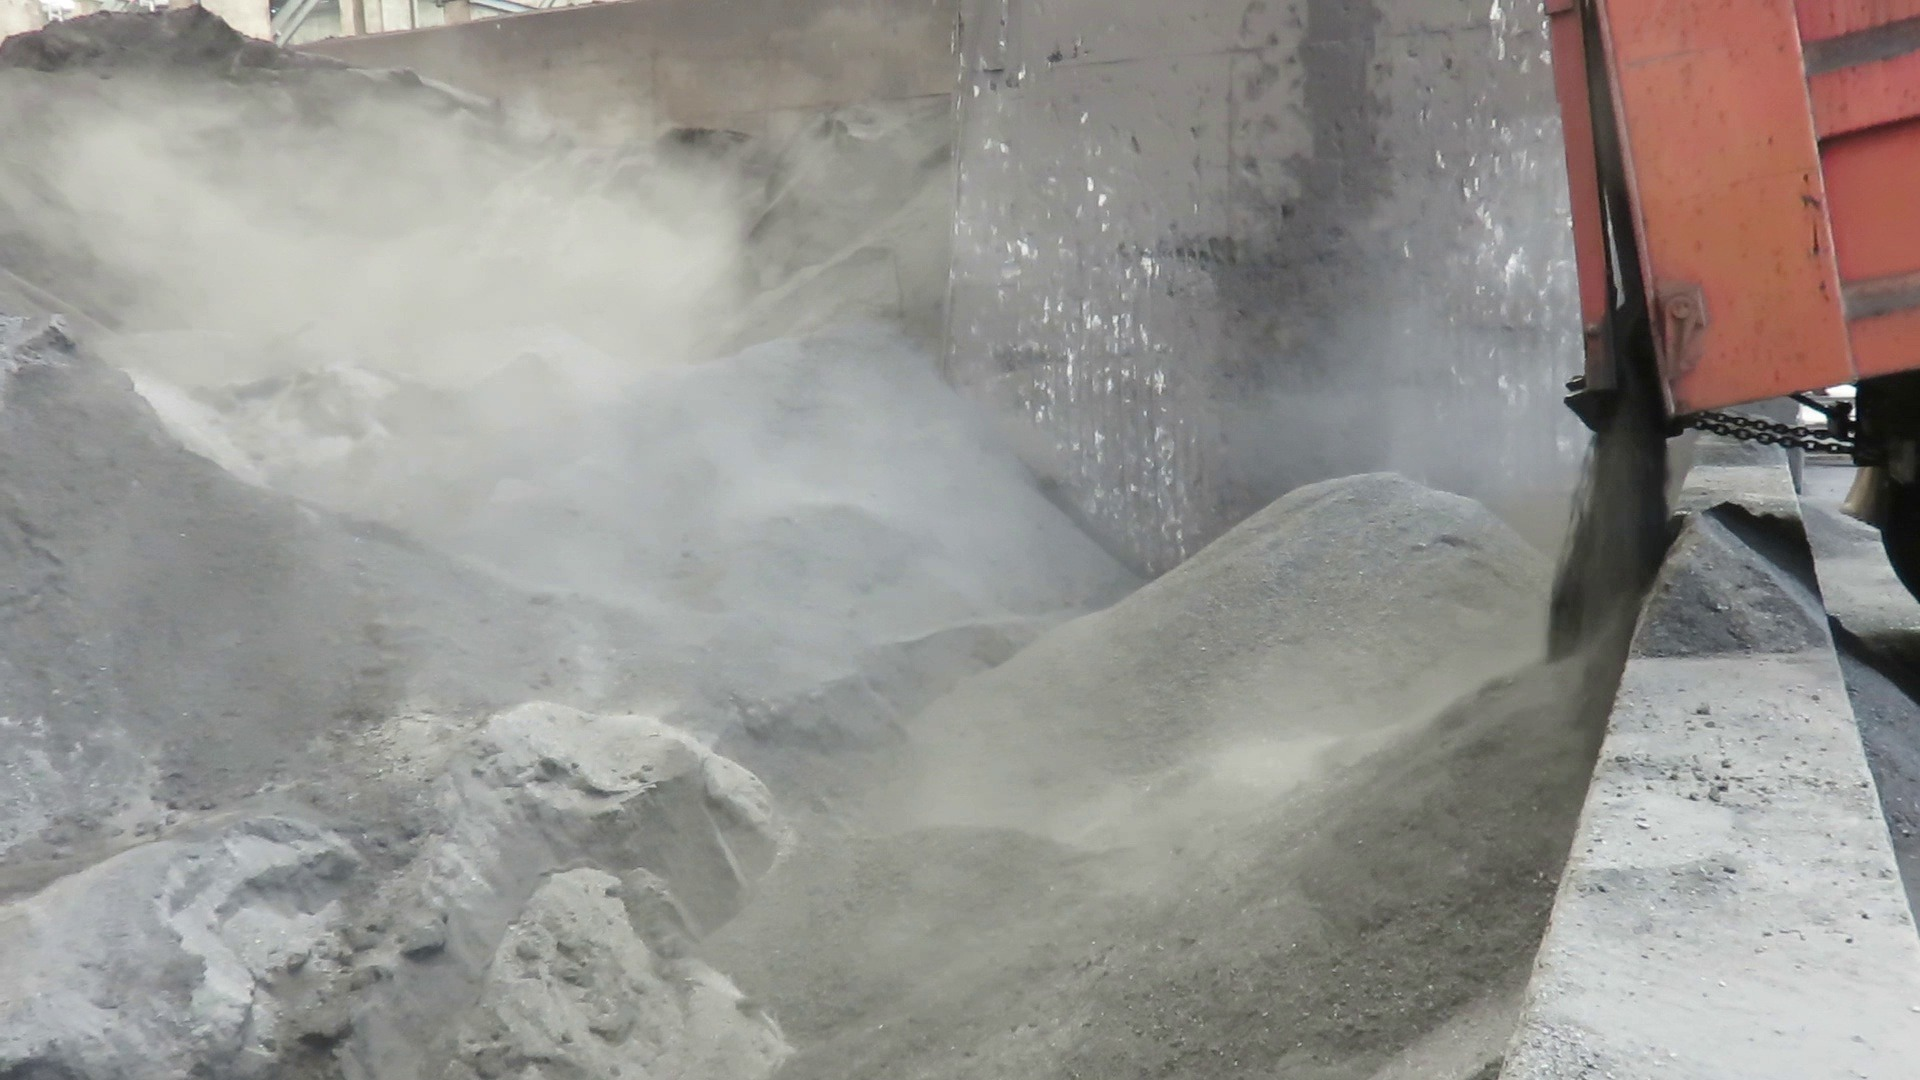dust: (5, 50, 1571, 870)
truck: (1539, 0, 1920, 612)
